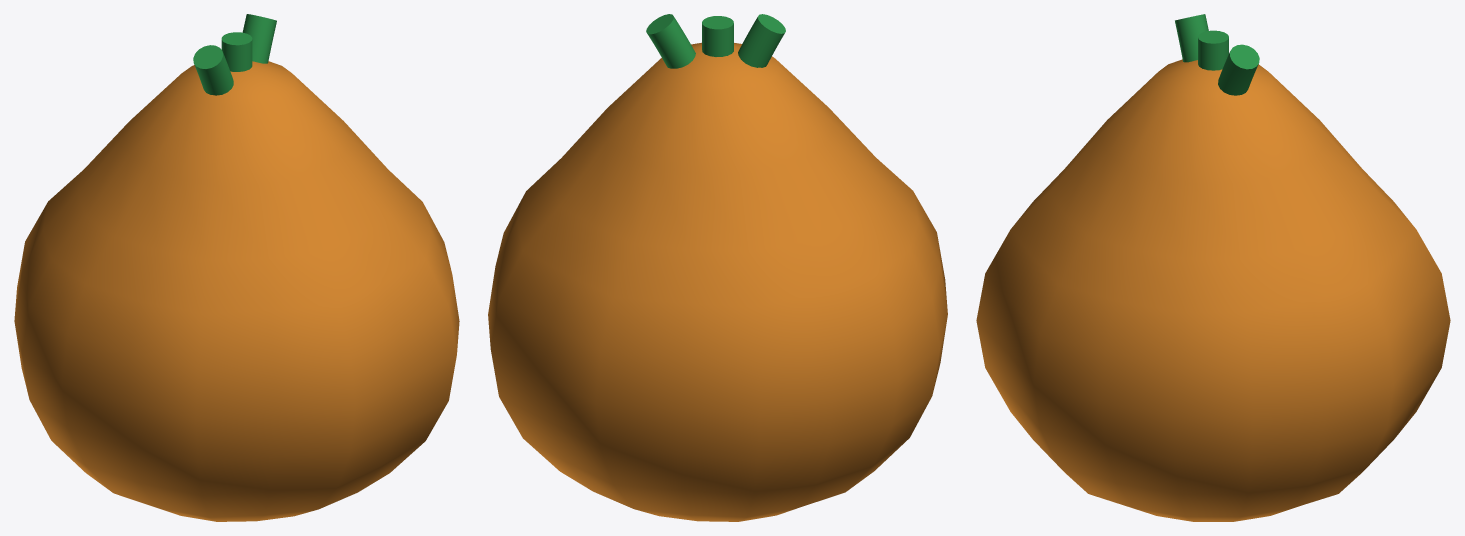
Rendered from food_ingredient_onion.gltf.
The picture shows the model from 3 angles, left to right: view 1: azimuth 30°, elevation 25°; view 2: azimuth 150°, elevation 25°; view 3: azimuth 270°, elevation 25°; orthographic projection. The views are drawn at different scales.
Parts seen in each view (by area): view 1: OnionBulb; view 2: OnionBulb; view 3: OnionBulb.
Part boxes in pixels (x1,y1,x2,y2): OnionBulb: [14, 14, 459, 521]; OnionBulb: [488, 14, 947, 521]; OnionBulb: [976, 14, 1450, 521].
Size of the model in its own units: 0.4046 by 0.456 by 0.4243.
